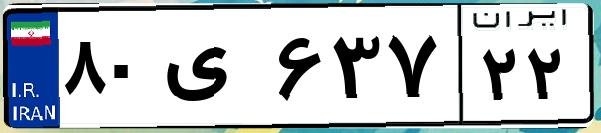0: (110, 28, 158, 98)
2: (475, 38, 525, 113), (525, 38, 570, 115)
3: (330, 28, 385, 110)
6: (270, 28, 330, 110)
7: (385, 28, 445, 110)
8: (57, 26, 110, 100)
ی: (158, 20, 270, 120)
